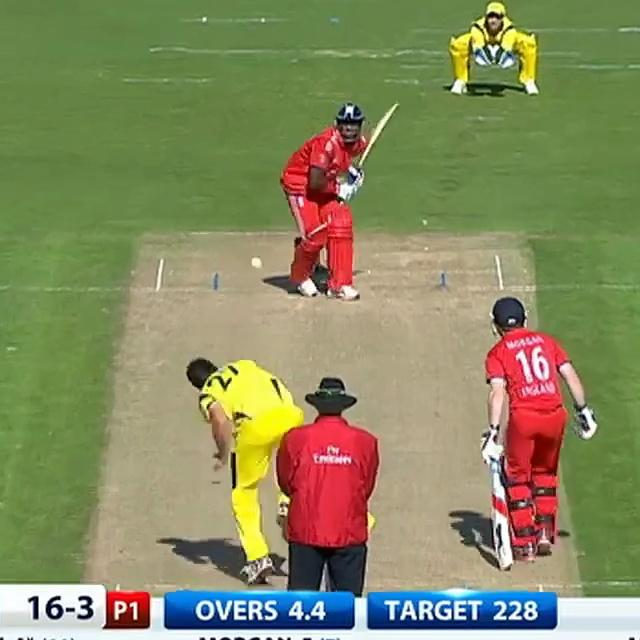umpire: (267, 370, 390, 598)
